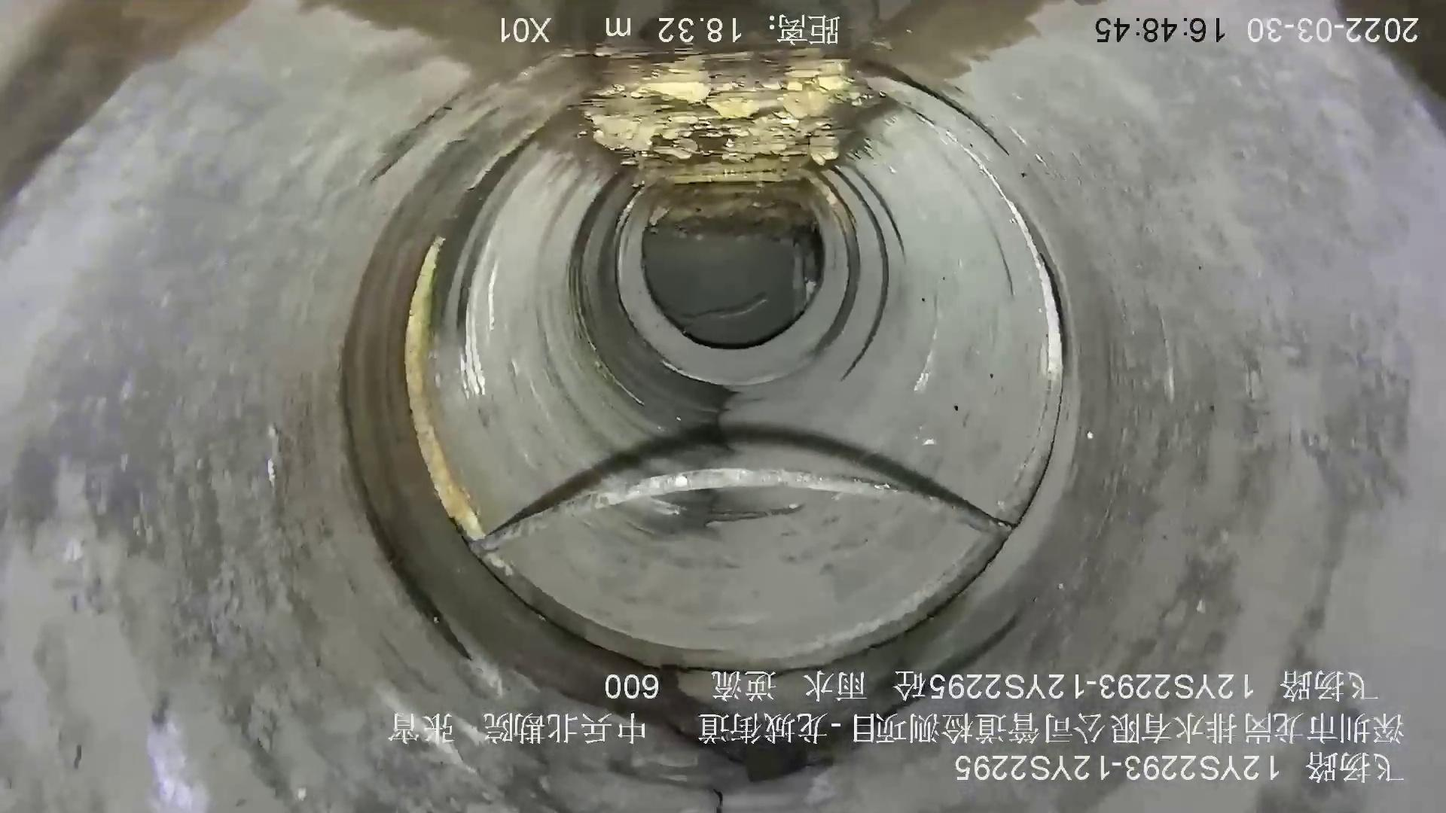CJ: (397, 74, 1074, 682), (574, 48, 883, 235)
YWCR: (473, 468, 1013, 558)
